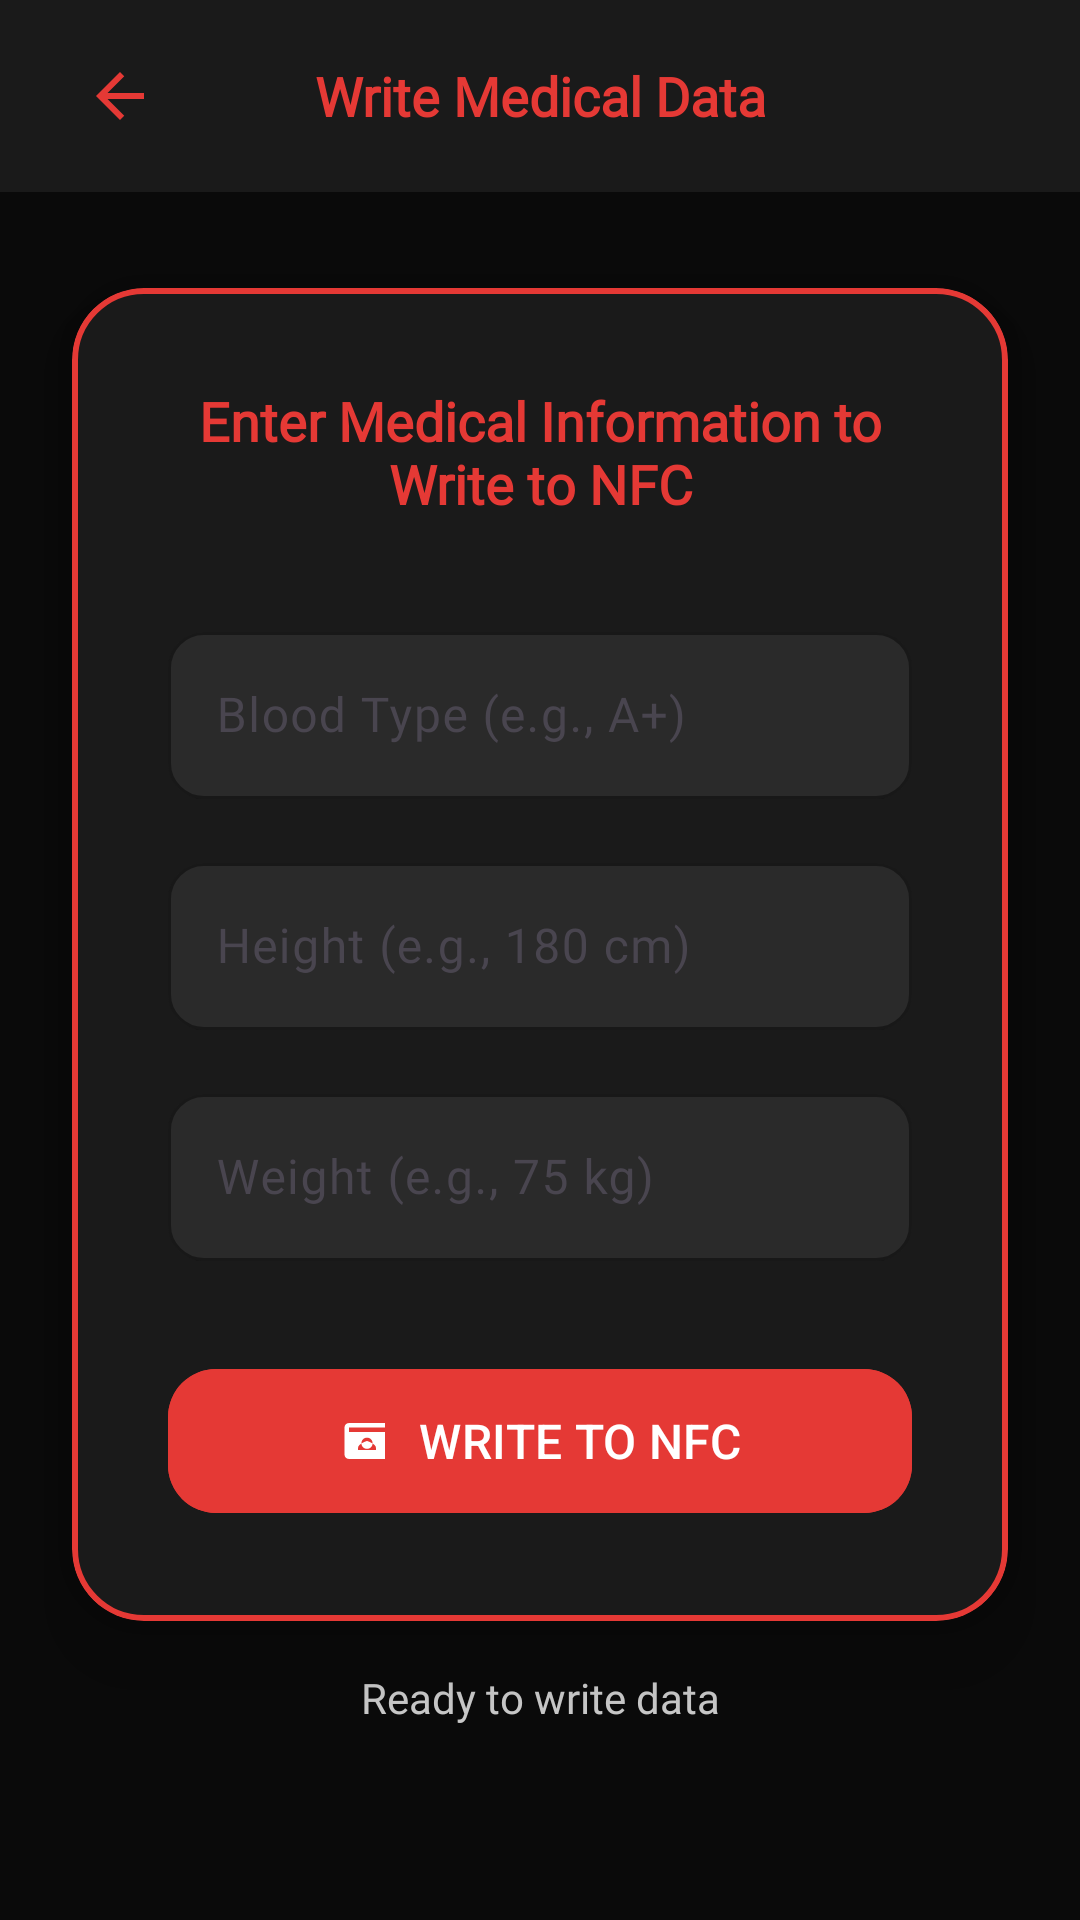

Screen size 1080*1920. Icon name, then its center in pixels as (x=x, y=y):
Back: (x=120, y=96)
